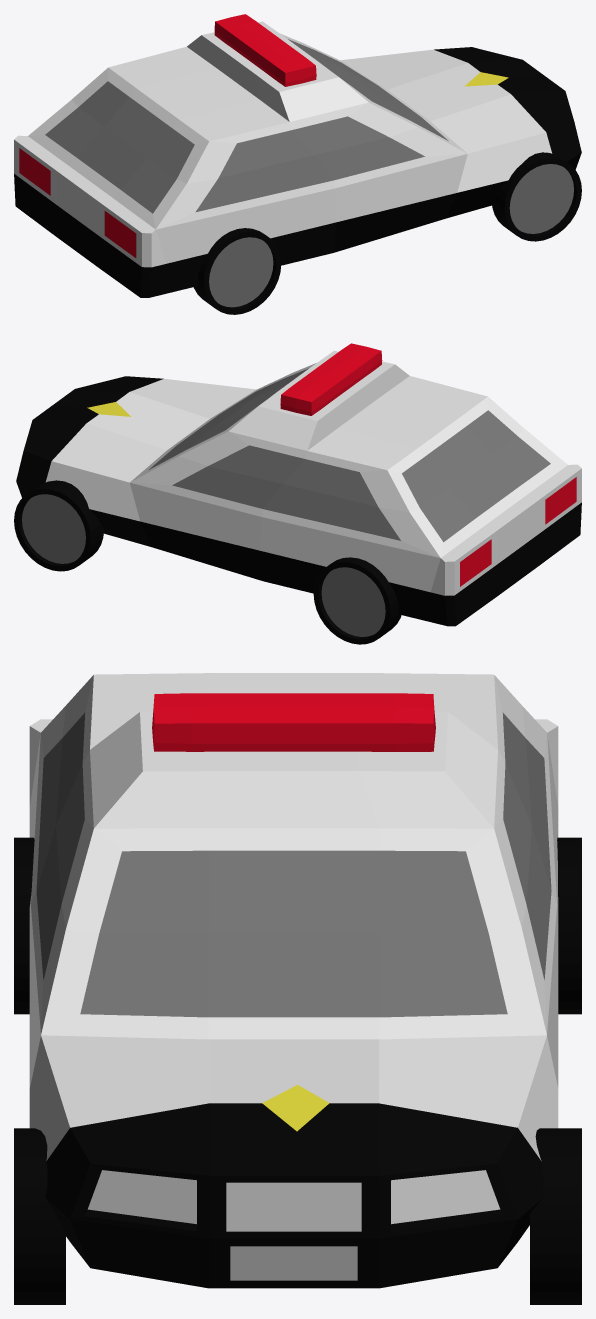
Rendered from policeCar.fbx.
3 renders of one model, top to bottom at view 1: azimuth 30°, elevation 25°; view 2: azimuth 150°, elevation 25°; view 3: azimuth 270°, elevation 25°, orthographic. The views are drawn at different scales.
Visible parts, largest first — view 1: パトカー; view 2: パトカー; view 3: パトカー.
Boxes of the visible parts, x1=… form: パトカー: x1=14, y1=14, x2=581, y2=314; パトカー: x1=14, y1=343, x2=581, y2=644; パトカー: x1=14, y1=673, x2=581, y2=1304.
Bounding box in the file's own units: 296 × 119 × 157.
